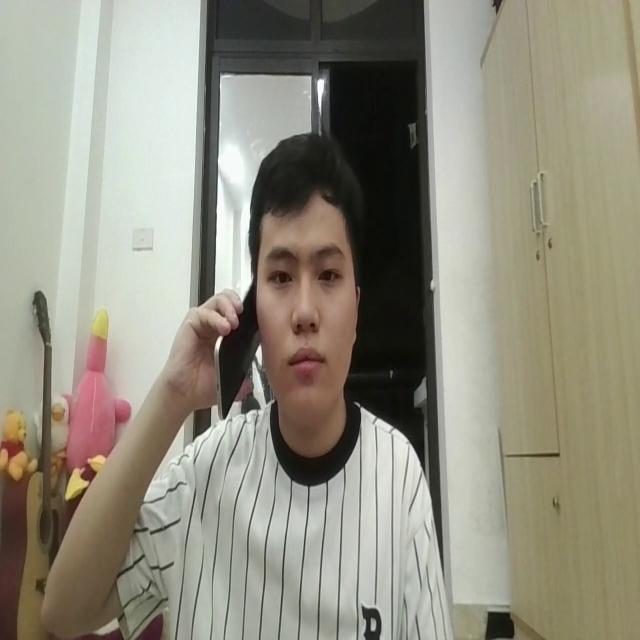phone: (207, 265, 266, 422)
student: (41, 129, 456, 640)
